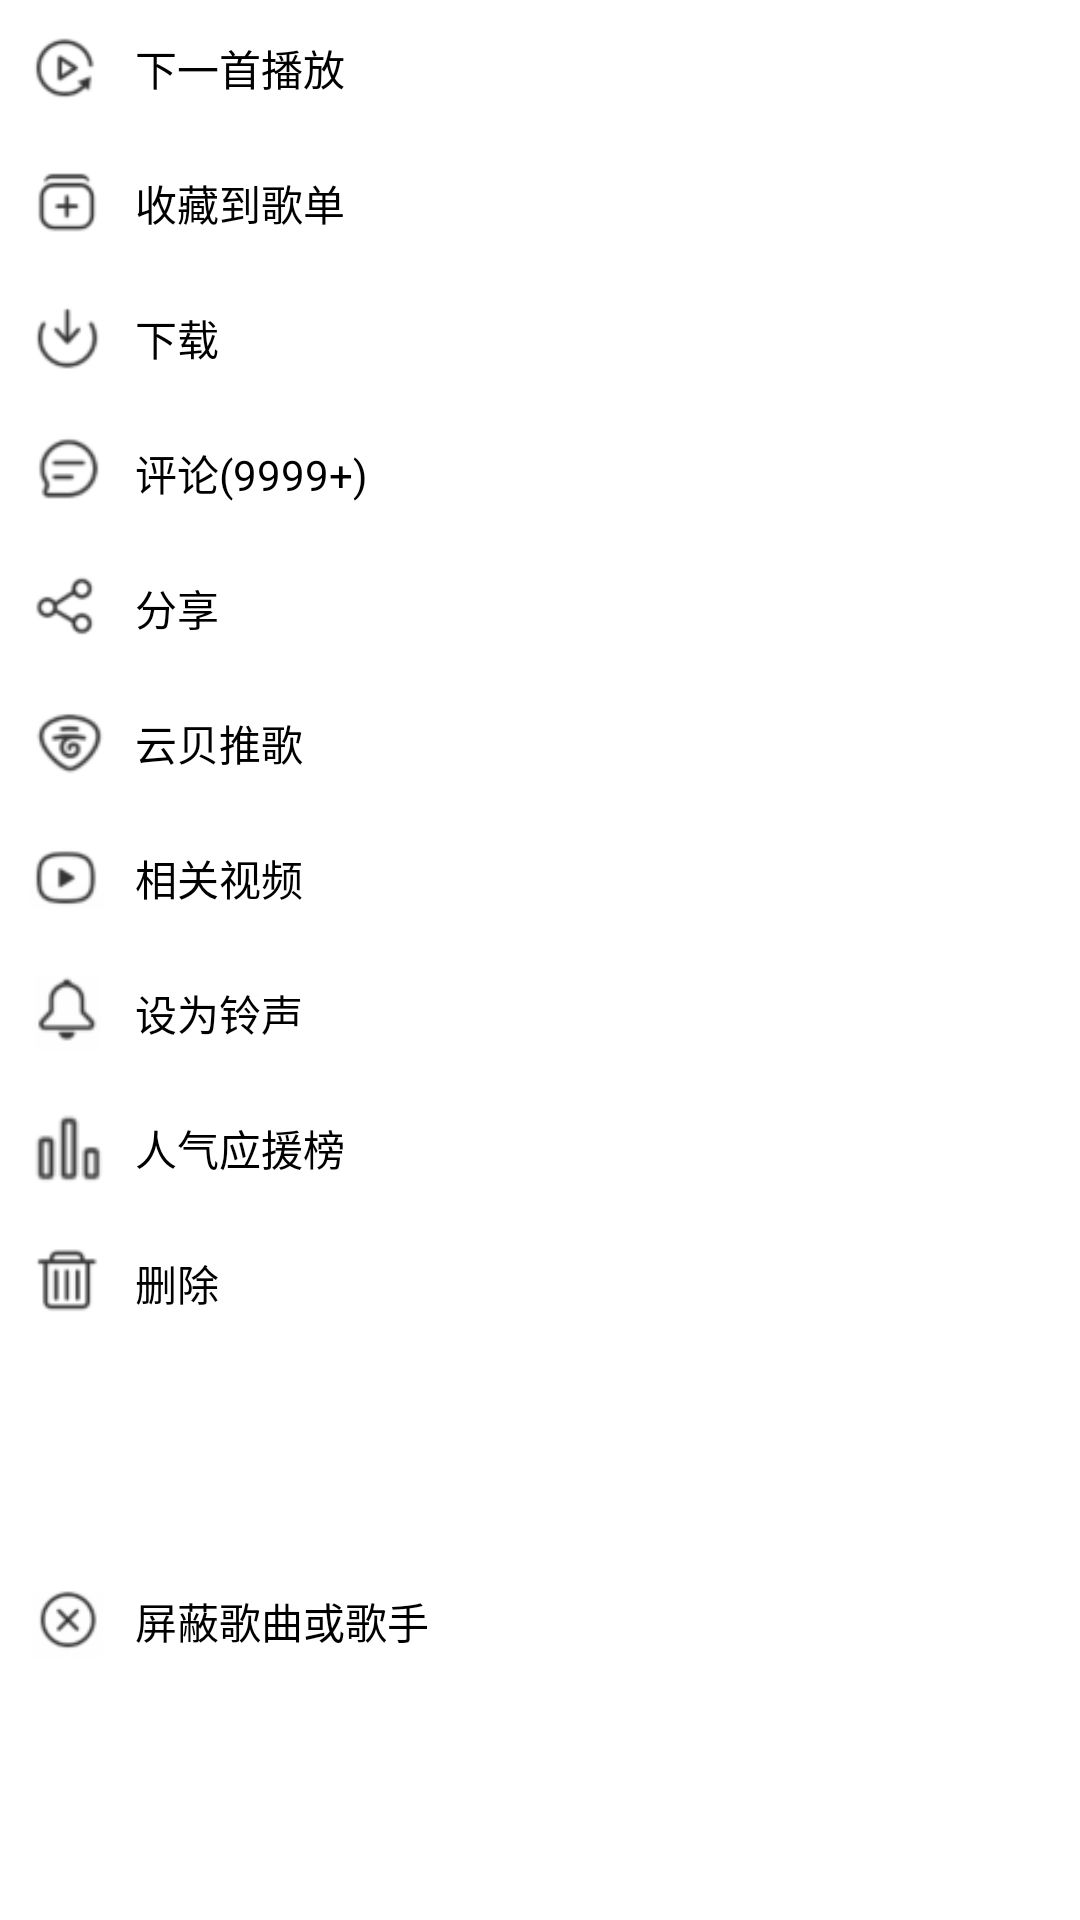

Named icons in this screenshot (1080*1920) and their centers, point (x, y):
playlistdetail view cancel: point (68, 1619)
playlistdetail view delete: point (67, 1280)
playlistdetail view download: point (67, 338)
playlistdetail view keep: point (67, 202)
playlistdetail view nextplay: point (65, 67)
playlistdetail view say: point (69, 469)
playlistdetail view share: point (64, 606)
playlistdetail view video: point (66, 877)
